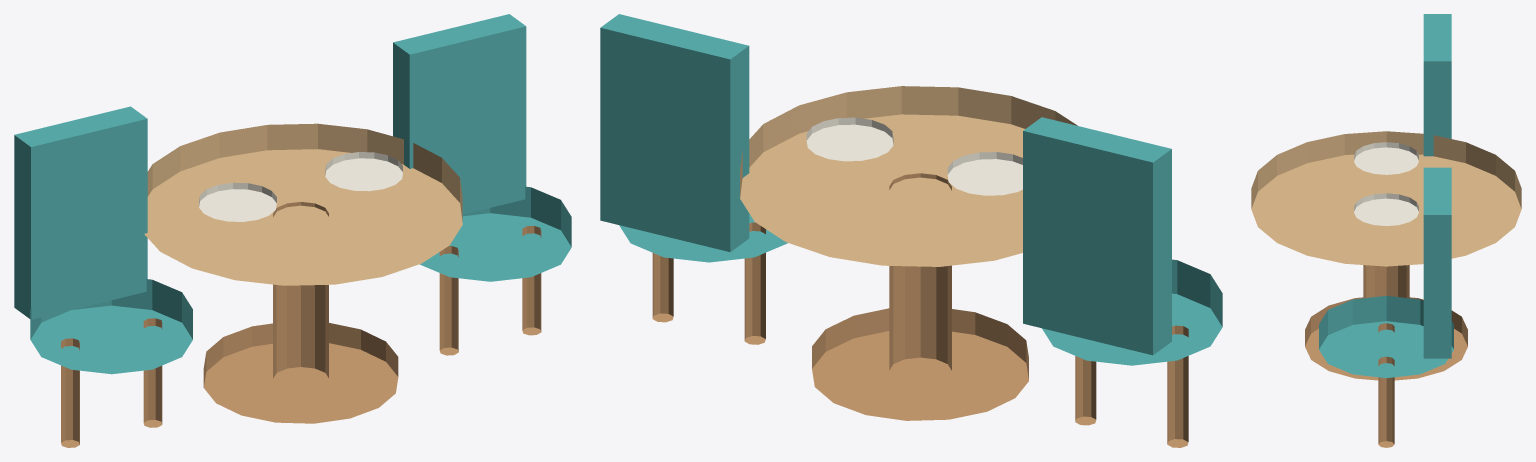
File: dining_round.glb
3 views of the same model, side by side, from view 1: azimuth 30°, elevation 25°; view 2: azimuth 150°, elevation 25°; view 3: azimuth 270°, elevation 25° (orthographic). The views are drawn at different scales.
Parts seen in each view (by area): view 1: dining_round; view 2: dining_round; view 3: dining_round.
Boxes of the visible parts, x1,y1,x2,y2 form: dining_round: (14, 14, 571, 447); dining_round: (600, 14, 1222, 447); dining_round: (1251, 14, 1521, 447).
Bounding box in the file's own units: 2.14 × 1.12 × 1.16.
